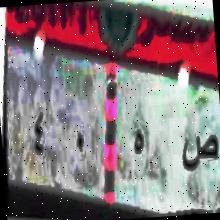0: (67, 115, 91, 167)
4: (27, 101, 49, 169)
haa: (127, 120, 150, 170)
saad: (176, 120, 220, 185)
